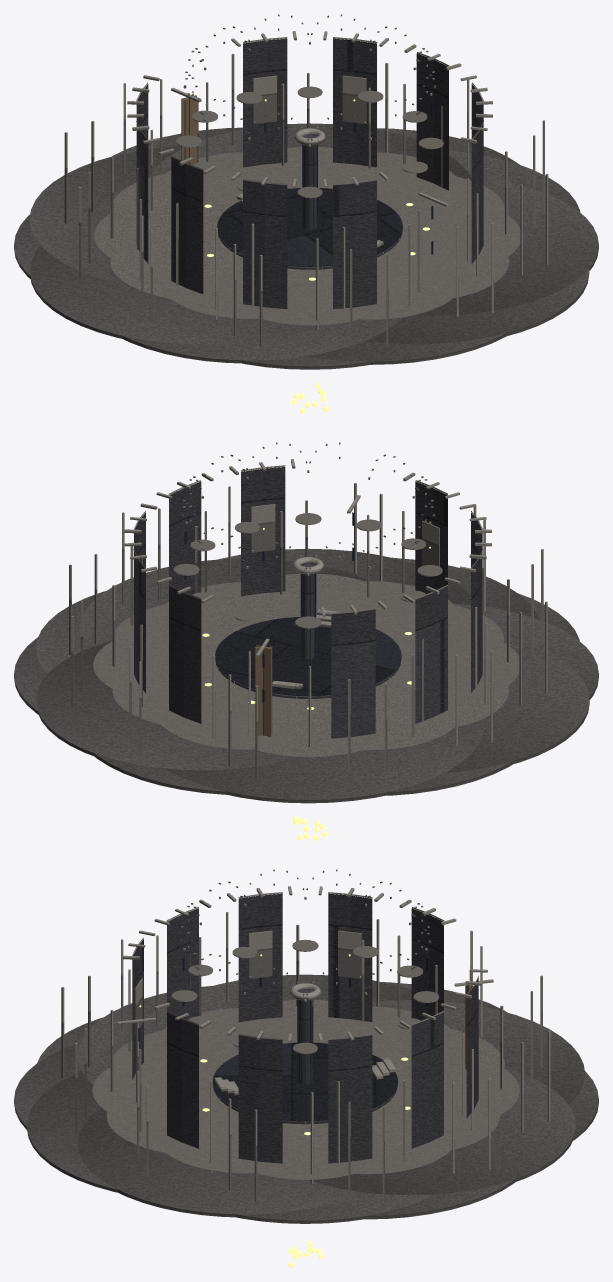
Rendered from test-iso-polished-v2_v1.glb.
3 renders of one model, top to bottom at view 1: azimuth 30°, elevation 25°; view 2: azimuth 150°, elevation 25°; view 3: azimuth 270°, elevation 25°, orthographic.
Visible parts, largest first — view 1: test-iso-polished-v2; view 2: test-iso-polished-v2; view 3: test-iso-polished-v2.
Boxes of the visible parts, <box> form: test-iso-polished-v2: <box>14,14,598,413</box>; test-iso-polished-v2: <box>14,442,598,840</box>; test-iso-polished-v2: <box>14,869,598,1267</box>.
Bounding box in the file's own units: 86.74 × 56.44 × 87.1.
10 materials, 6 textured.
